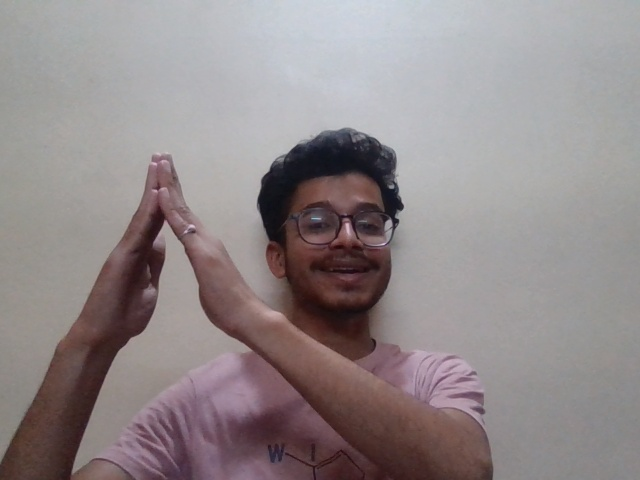home: (78, 144, 278, 348)
